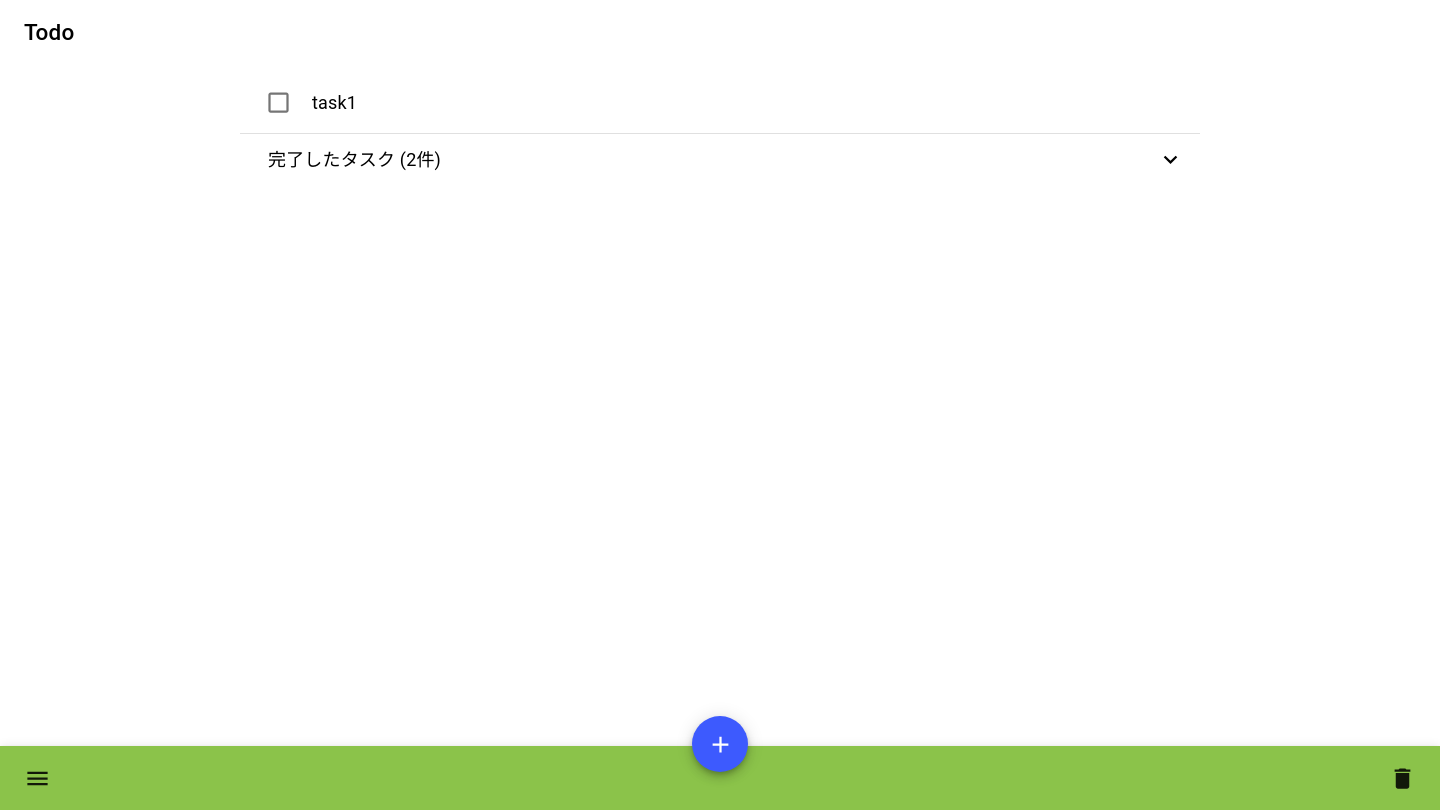
Test case: 完了済みタスクの削除
// 削除前の件数確認
What coordinates should you click on to do the following:
click the button "完了したタスク (2件)"
I would click on:
 (337, 160)
Its box is [268,146,1184,173].
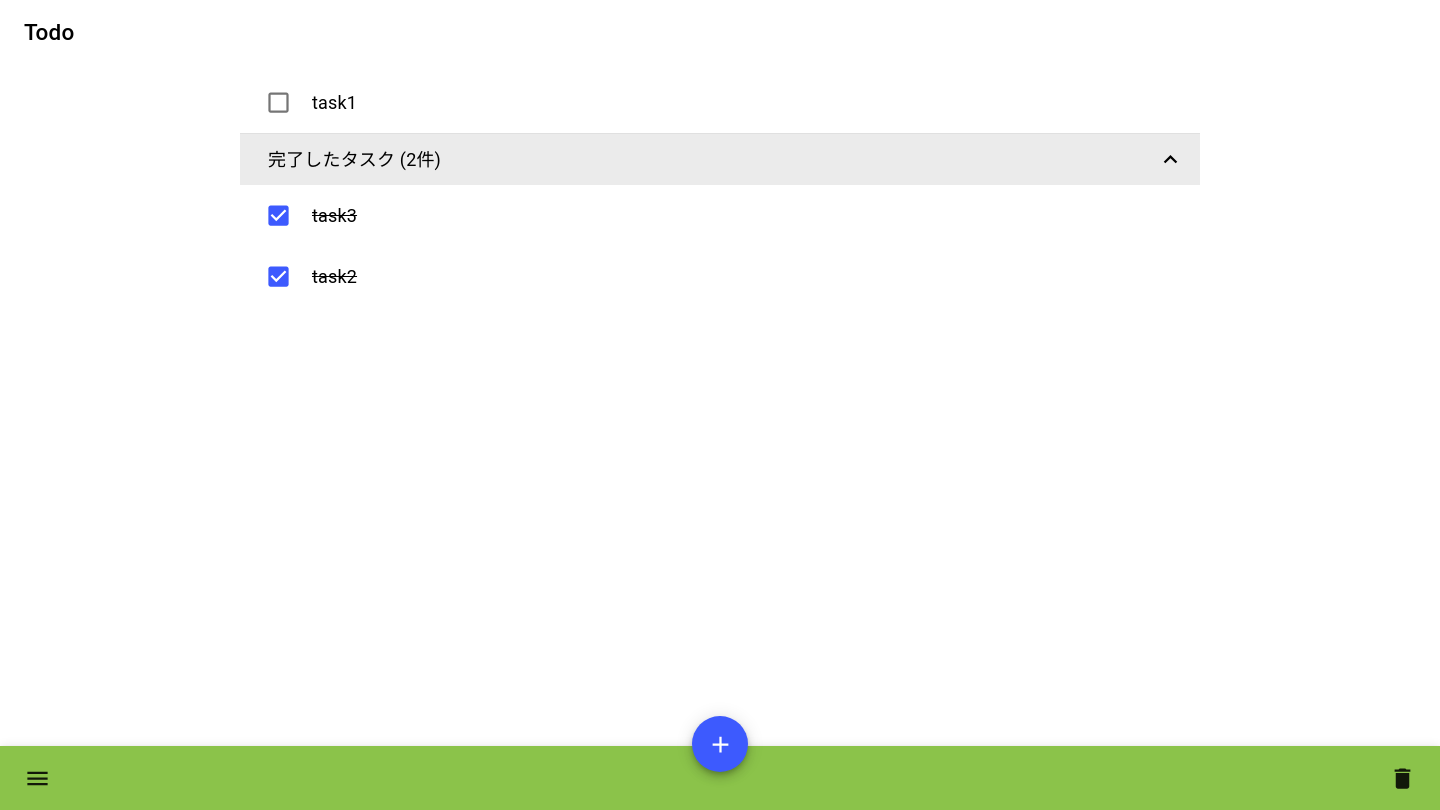
Check: the number of buttons named "task-item" is 3, box [265,89,357,116]; [265,202,357,229]; [265,263,357,290]
// 削除確認モーダルの表示
What coordinates should you click on to do the following:
click the button named "delete-tasks"
I would click on:
 (1402, 778)
Its box is [1377,752,1428,804].
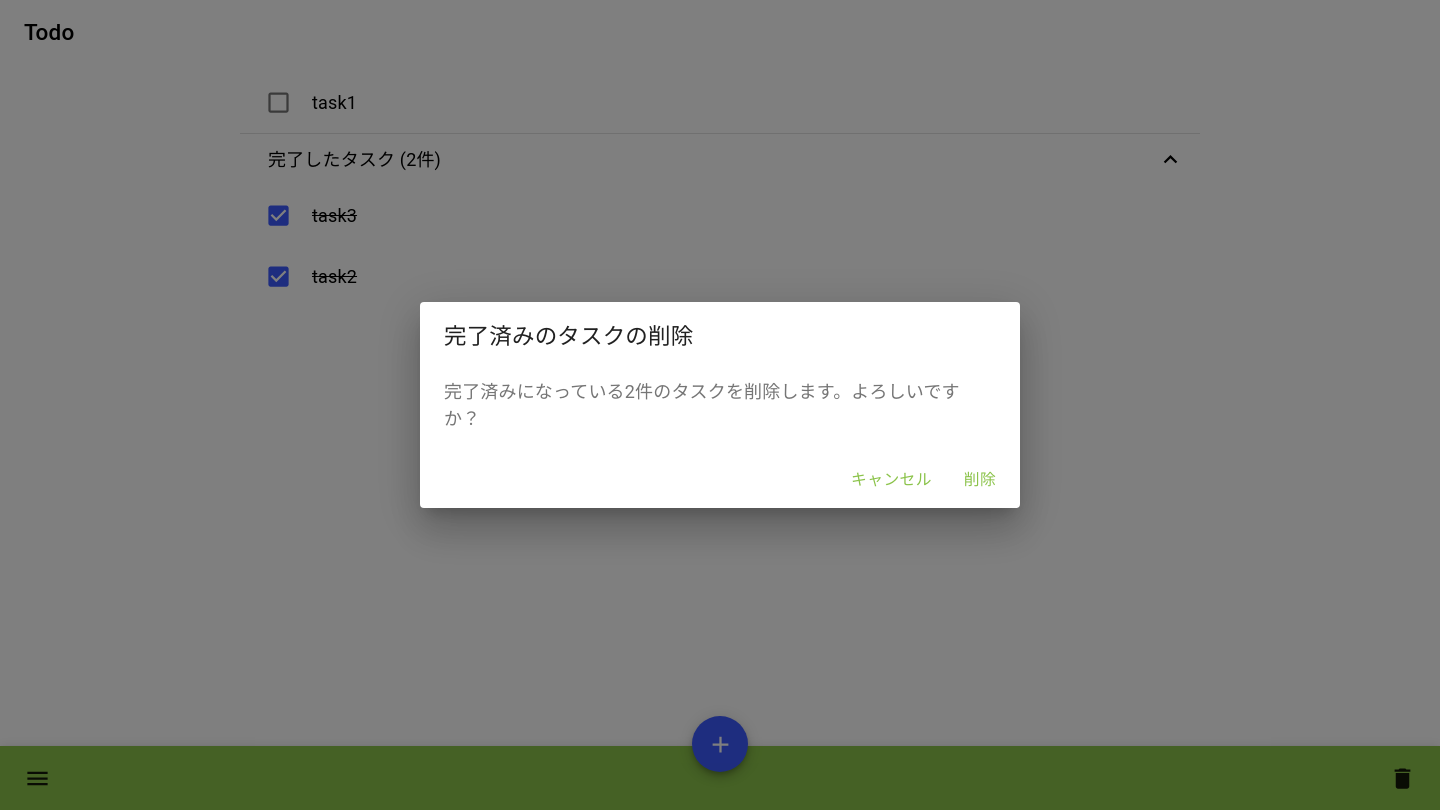
Check: the heading "完了済みのタスクの削除" is shown, box [444,323,693,349]
What coordinates should you click on to do the following:
click the button "削除"
I would click on:
 (980, 480)
Its box is [948,460,1012,500].
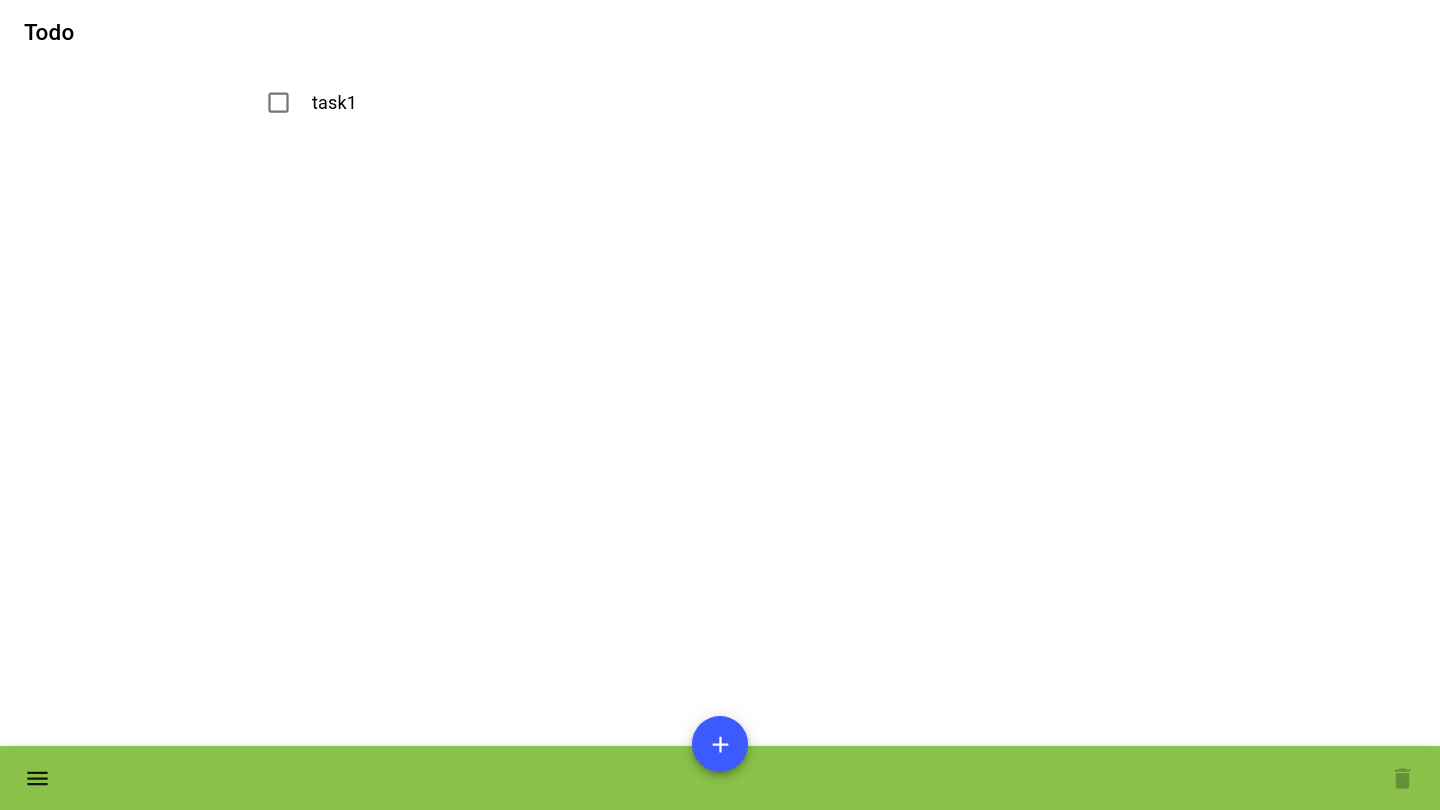
Check: the number of buttons named "task-item" is 1, box [265,89,357,116]
